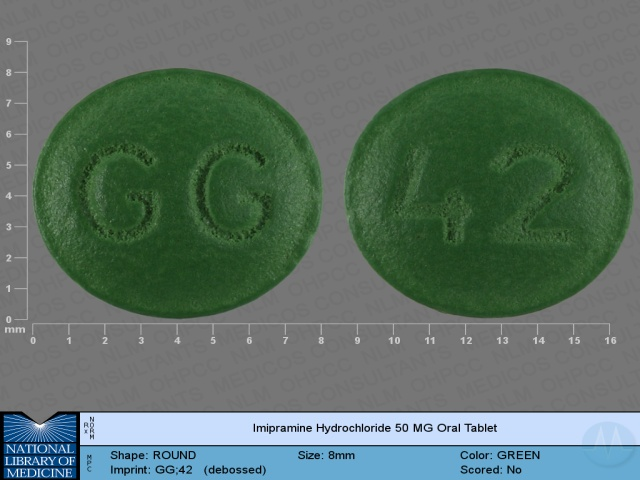2: (487, 139, 585, 248)
4: (390, 139, 481, 245)
G: (78, 135, 165, 249), (191, 133, 278, 247)
